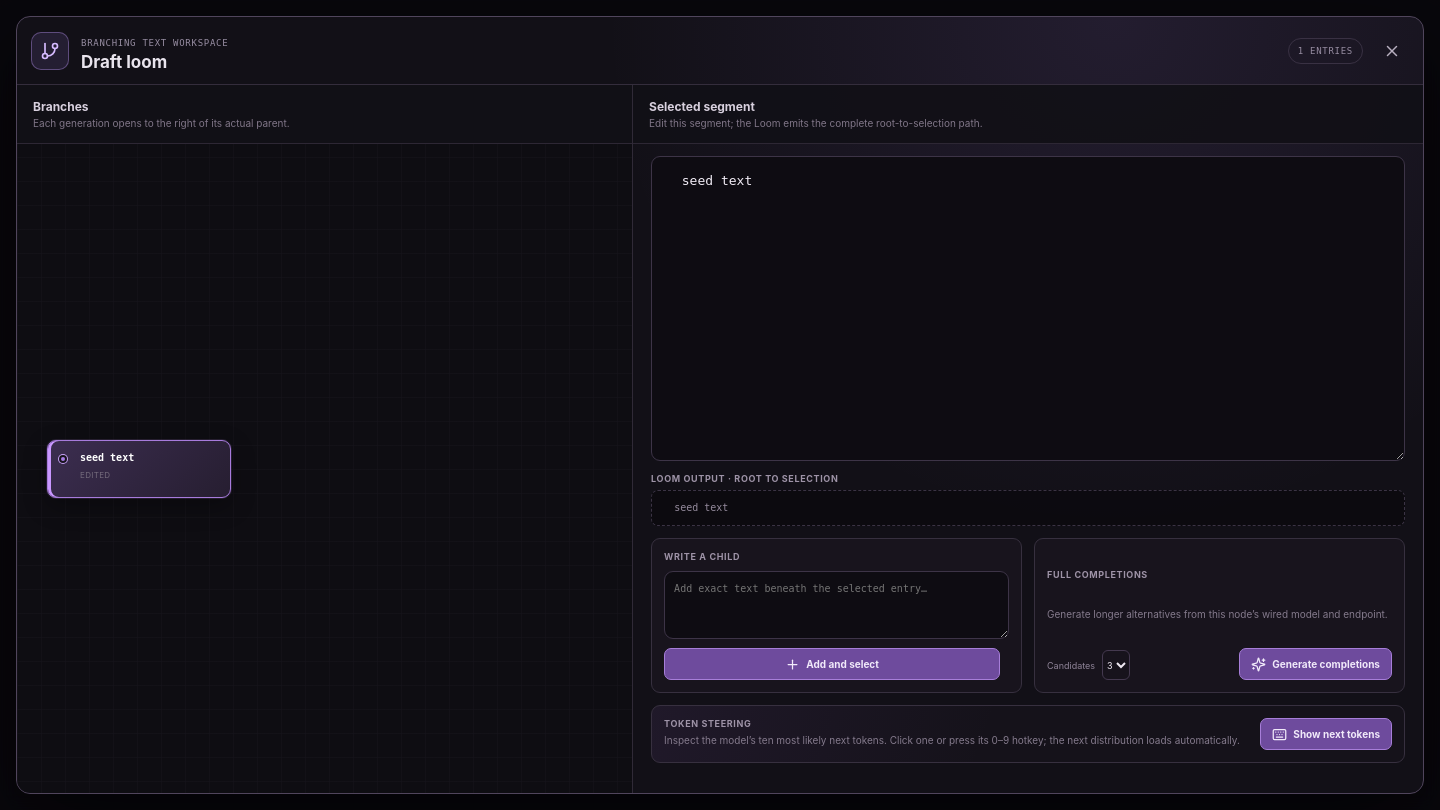
Test: LoomEditor › preserves exact edits and adds a selected manual child
Clear the text box named "Selected loom segment": (1028,308) [651,156,1405,460]
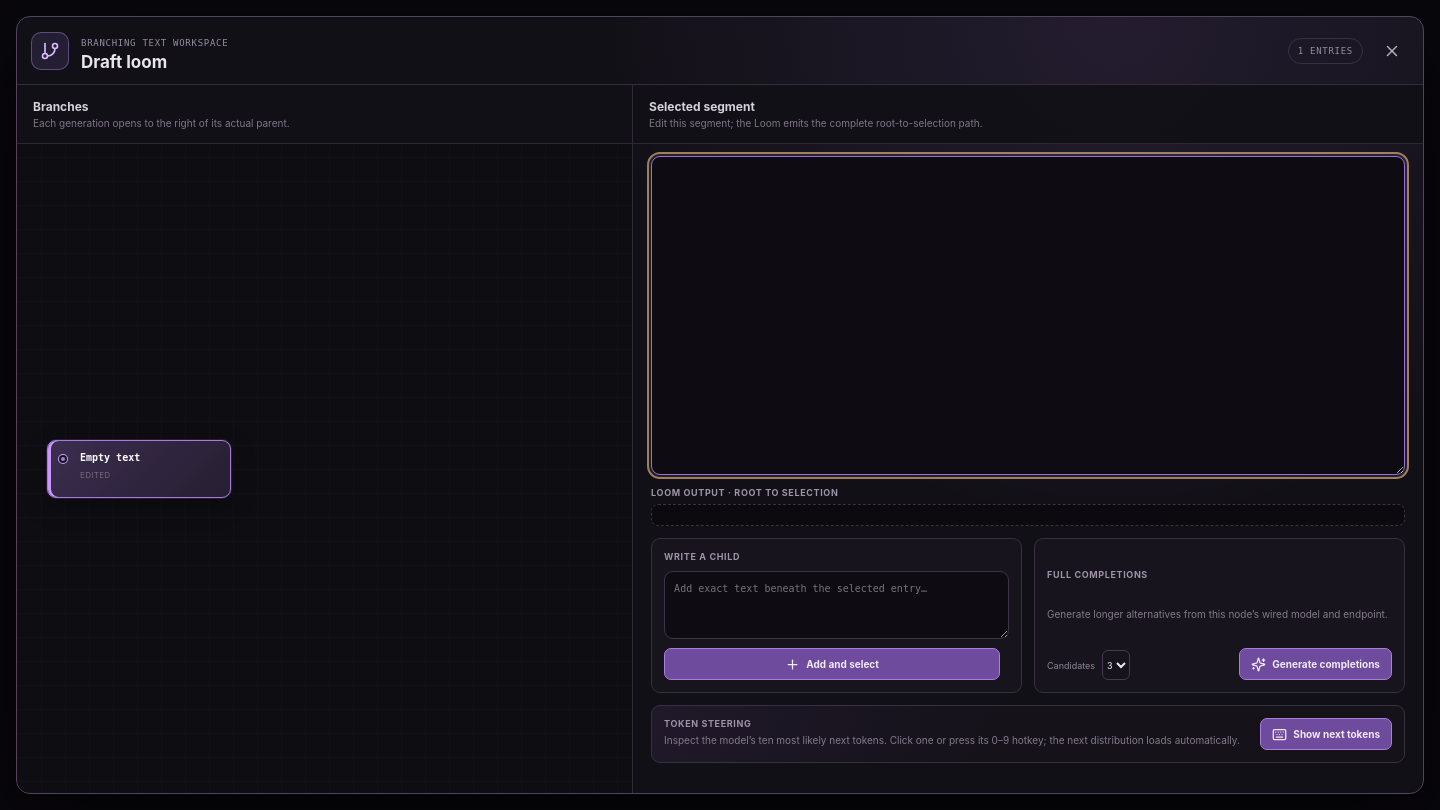
In the text box named "Selected loom segment": (1028,316) [651,156,1405,475], type "  revised  "
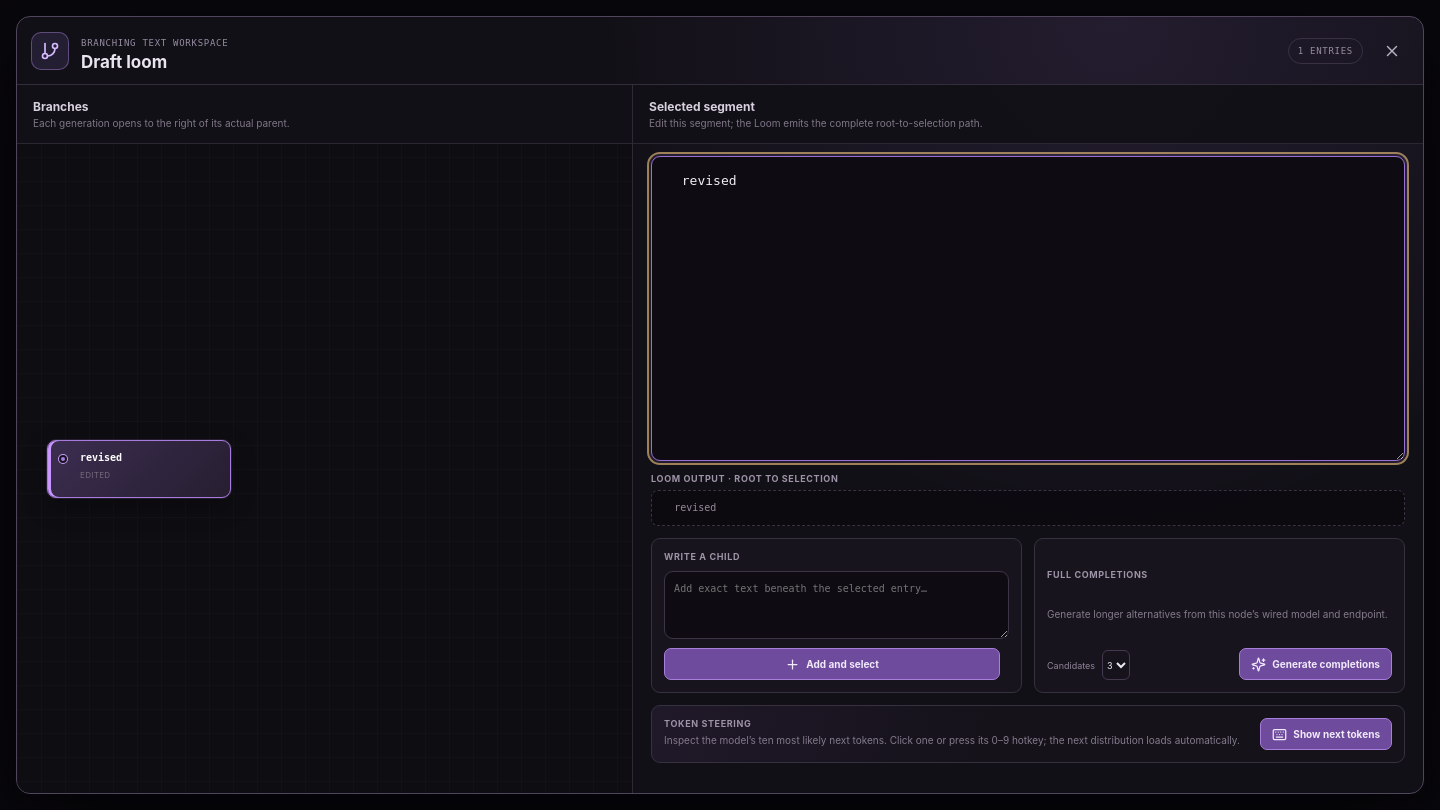
In the text box named "Manual loom branch text": (837,605) [664,571,1009,639], type " child "
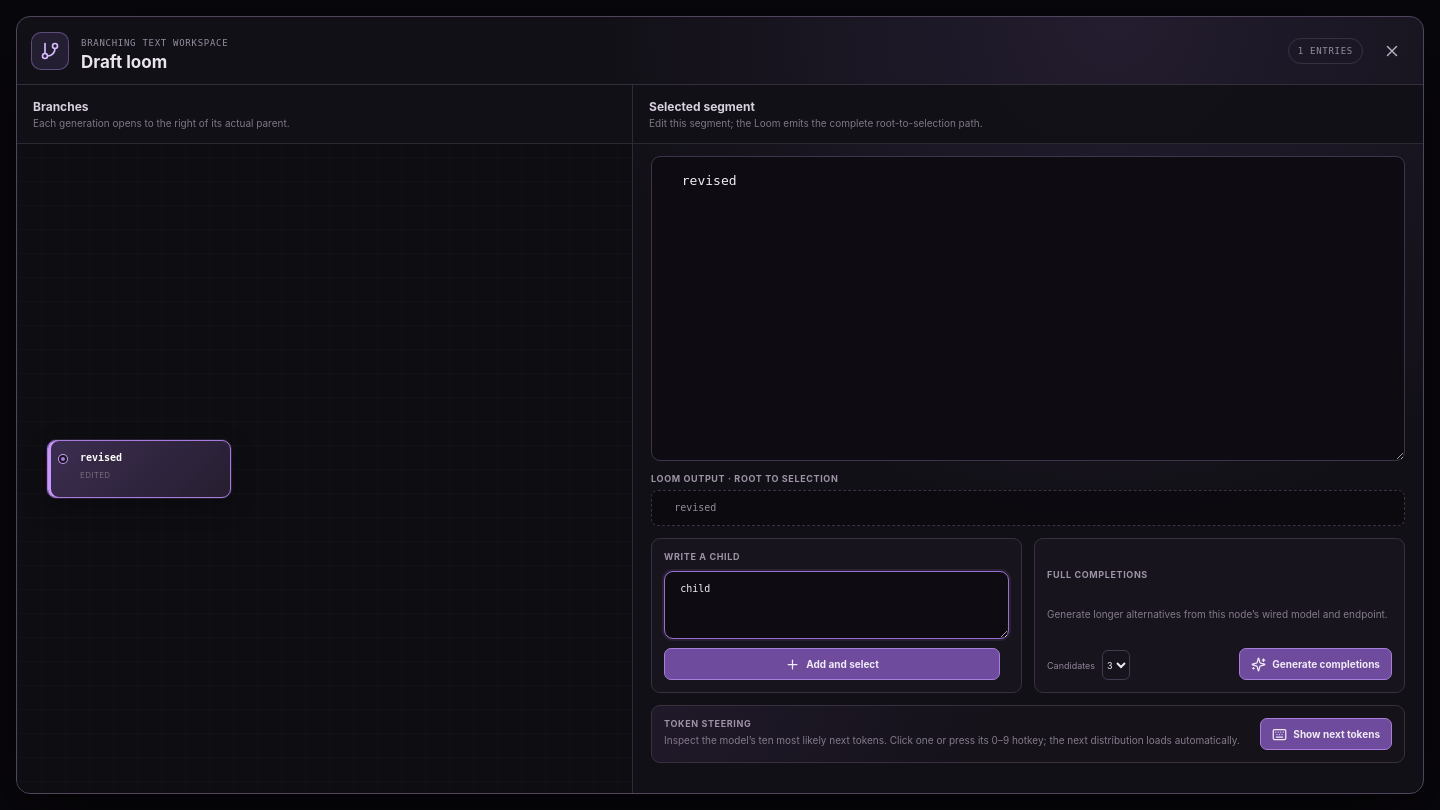
Click the button "Add and select": (832,664) [664,648,1000,680]
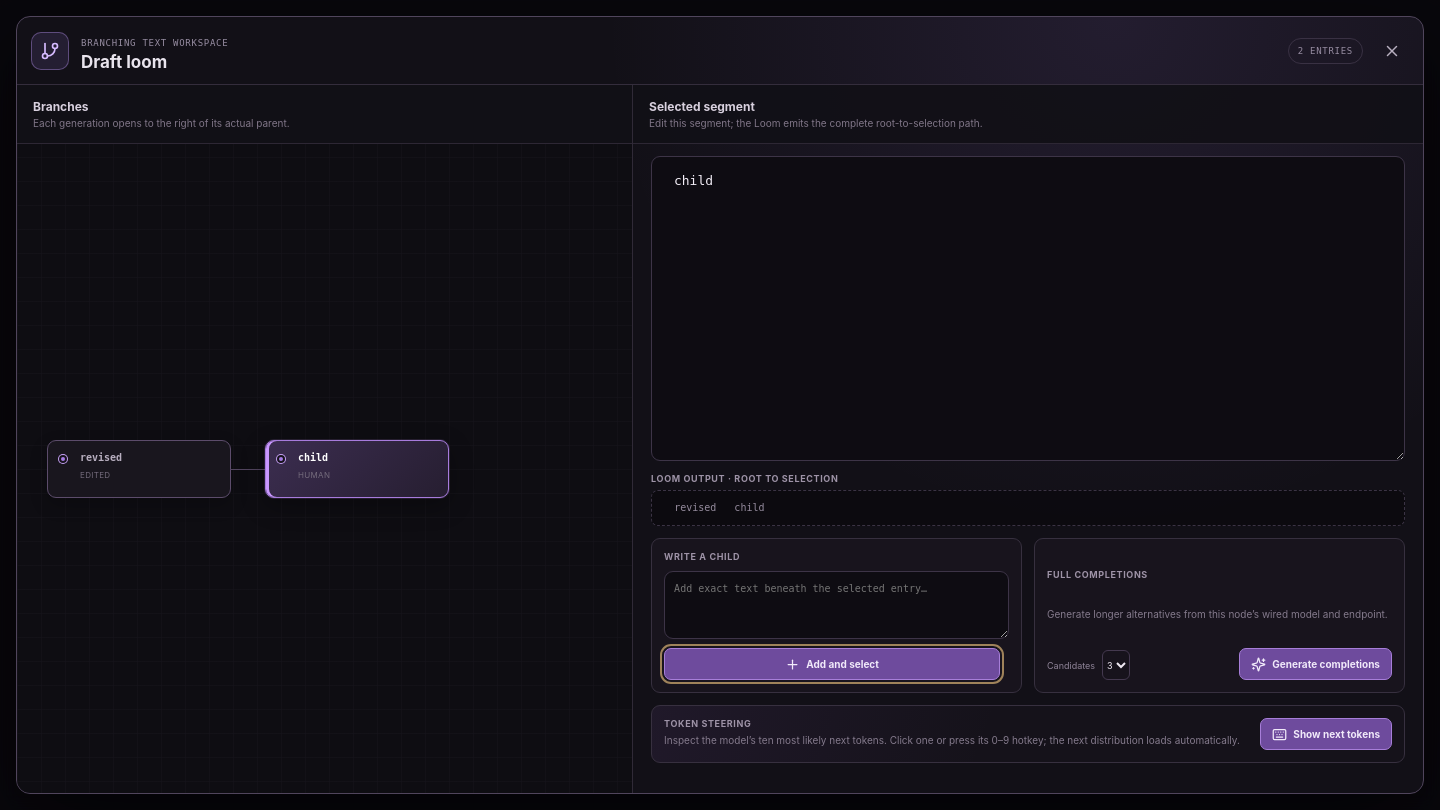
expect the text box named "Selected loom segment" holds " child ": met, box [651,156,1405,460]
expect the text "2 entries" is shown: met, box [1288,38,1363,64]
